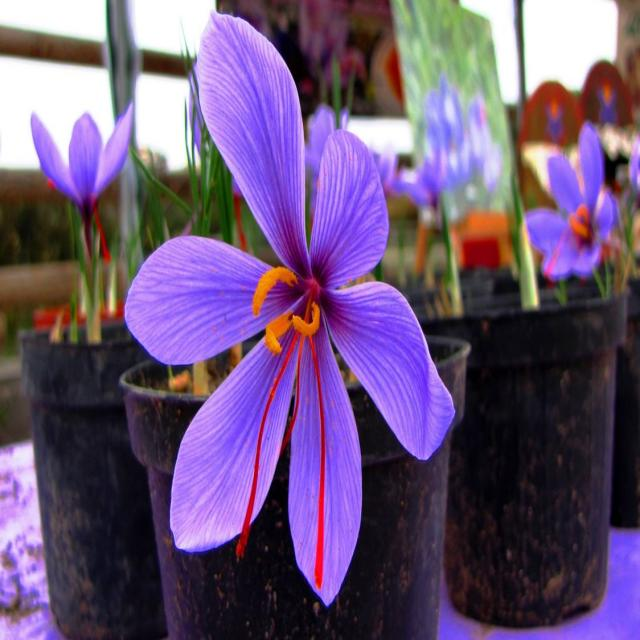saffron open: (128, 15, 454, 606), (526, 124, 616, 280), (31, 103, 132, 227)
